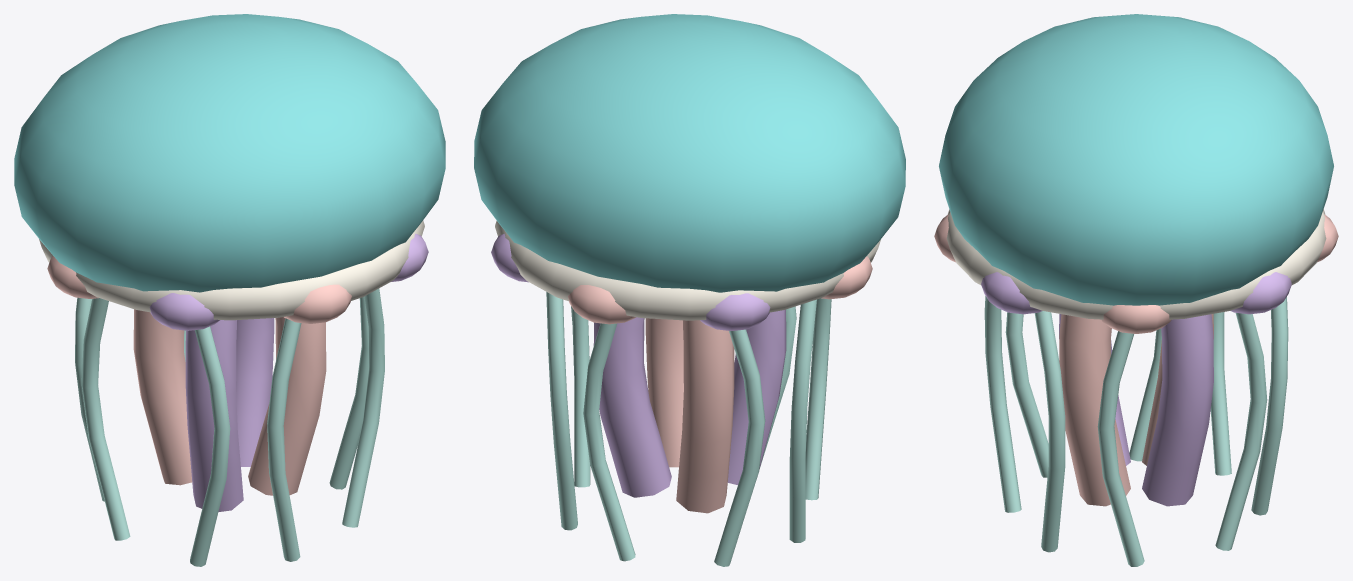
Rendered from jellyfish.glb.
3 views of the same model, side by side, from view 1: azimuth 30°, elevation 25°; view 2: azimuth 150°, elevation 25°; view 3: azimuth 270°, elevation 25° (orthographic).
Visible parts, largest first — view 1: Bell, BellMargin, OralArm_2, OralArm_3, OralArm_4, OralArm_1, Tentacle_5, Tentacle_7, Tentacle_6, Tentacle_8, Tentacle_1, MarginLobe_5 (+4 smaller); view 2: Bell, OralArm_2, OralArm_1, BellMargin, OralArm_3, OralArm_4, Tentacle_4, Tentacle_3, Tentacle_2, Tentacle_5, Tentacle_6, Tentacle_1 (+5 smaller); view 3: Bell, OralArm_1, OralArm_4, BellMargin, Tentacle_8, Tentacle_2, Tentacle_1, Tentacle_3, Tentacle_7, Tentacle_6, Tentacle_4, MarginLobe_0 (+4 smaller).
Part boxes in pixels (box(x1,y1,x2,y2)): Bell: box(14, 14, 445, 292); BellMargin: box(39, 220, 424, 320); OralArm_2: box(133, 309, 192, 485); OralArm_3: box(185, 320, 243, 511); OralArm_4: box(248, 317, 326, 495); OralArm_1: box(236, 318, 274, 466); Tentacle_5: box(81, 298, 130, 540); Tentacle_7: box(267, 318, 301, 561); Tentacle_6: box(190, 326, 230, 566); Tentacle_8: box(342, 288, 384, 527); Tentacle_1: box(329, 296, 369, 489); MarginLobe_5: box(149, 293, 219, 330); Bell: box(474, 14, 905, 292); OralArm_2: box(676, 320, 734, 513); OralArm_1: box(593, 317, 671, 497); BellMargin: box(495, 221, 880, 320); OralArm_3: box(727, 309, 786, 485); OralArm_4: box(645, 318, 683, 467); Tentacle_4: box(714, 329, 765, 566); Tentacle_3: box(583, 323, 635, 561); Tentacle_2: box(546, 292, 577, 530); Tentacle_5: box(789, 299, 816, 542); Tentacle_6: box(805, 298, 831, 500); Tentacle_1: box(571, 306, 590, 487); Bell: box(939, 14, 1333, 305); OralArm_1: box(1142, 314, 1213, 506); OralArm_4: box(1059, 314, 1130, 506); BellMargin: box(946, 209, 1326, 319); Tentacle_8: box(1034, 311, 1065, 552); Tentacle_2: box(1215, 313, 1267, 550); Tentacle_1: box(1097, 331, 1144, 566); Tentacle_3: box(1251, 297, 1288, 515); Tentacle_7: box(984, 296, 1021, 512); Tentacle_6: box(1005, 312, 1048, 477); Tentacle_4: box(1210, 312, 1231, 475); MarginLobe_0: box(1101, 305, 1171, 333).
Bounding box in the file's own units: 2.92 × 3.39 × 2.66.
